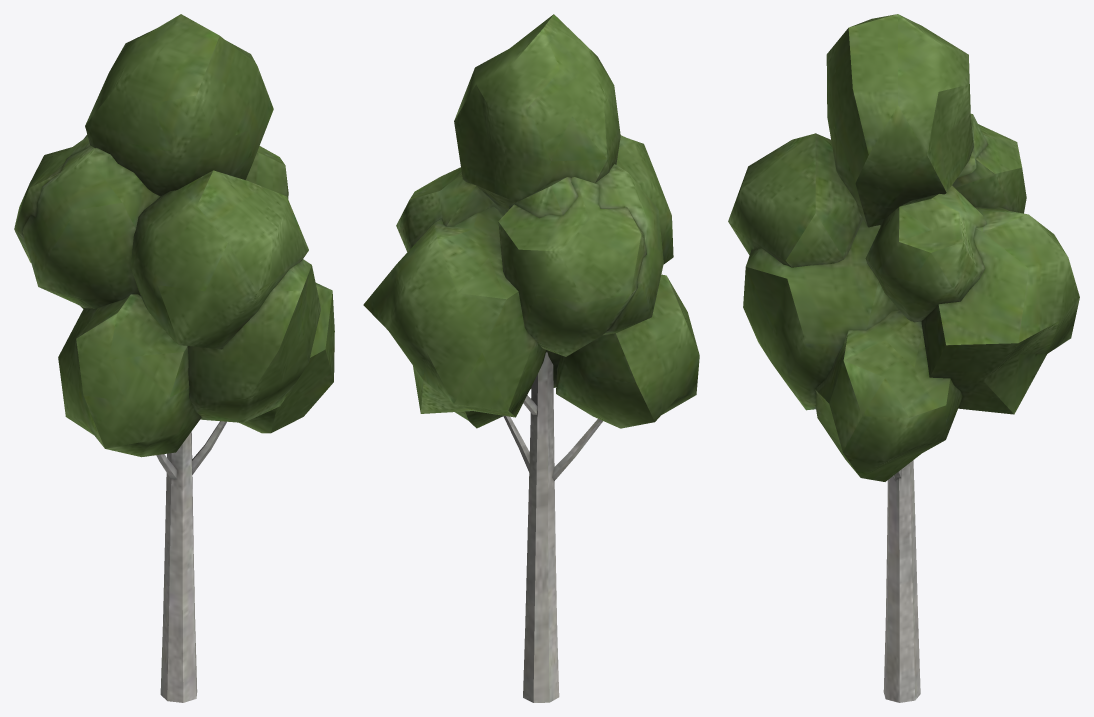
Rendered from betula.glb.
3 renders of one model, left to right at view 1: azimuth 30°, elevation 25°; view 2: azimuth 150°, elevation 25°; view 3: azimuth 270°, elevation 25°, orthographic. The views are drawn at different scales.
Parts seen in each view (by area): view 1: betula; view 2: betula; view 3: betula.
Part boxes in pixels (left/top/right/bottom): betula: left=14, top=14, right=334, bottom=702; betula: left=363, top=14, right=699, bottom=702; betula: left=728, top=14, right=1079, bottom=702.
Bounding box in the file's own units: 2.6 × 6.31 × 2.95.
Materials: 1 (1 with a texture image).
